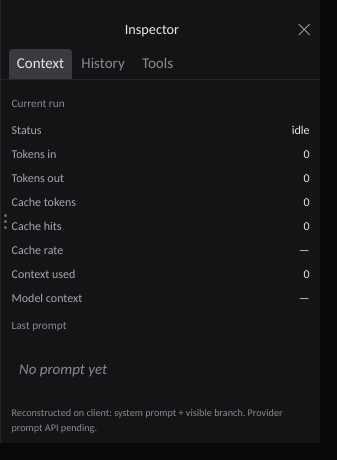
Scenario: InspectorSidebar › switches to a stub tab
This screenshot has width=337, height=460.
Click the tab "History" at (103, 64), box [74,49,132,79]
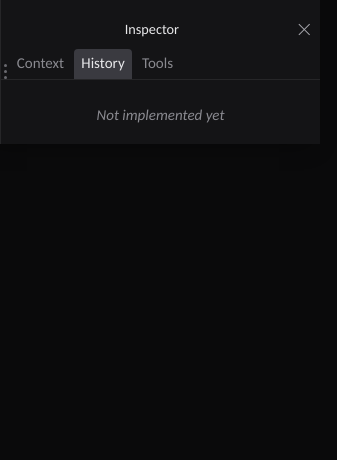
Now the text "Not implemented yet" is shown, box [96,106,224,124]
